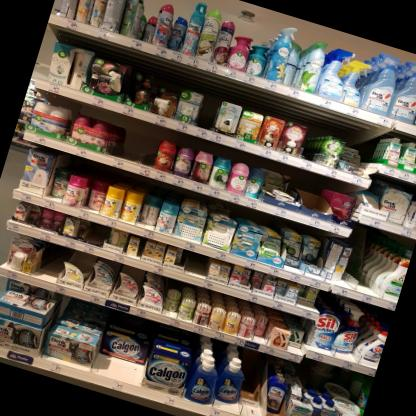empty_space: (345, 244, 384, 300), (103, 130, 156, 168), (30, 245, 71, 286), (237, 357, 262, 416), (182, 255, 209, 280)
